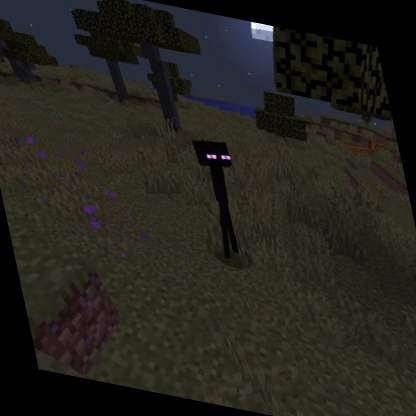enderman: (186, 132, 259, 267)
